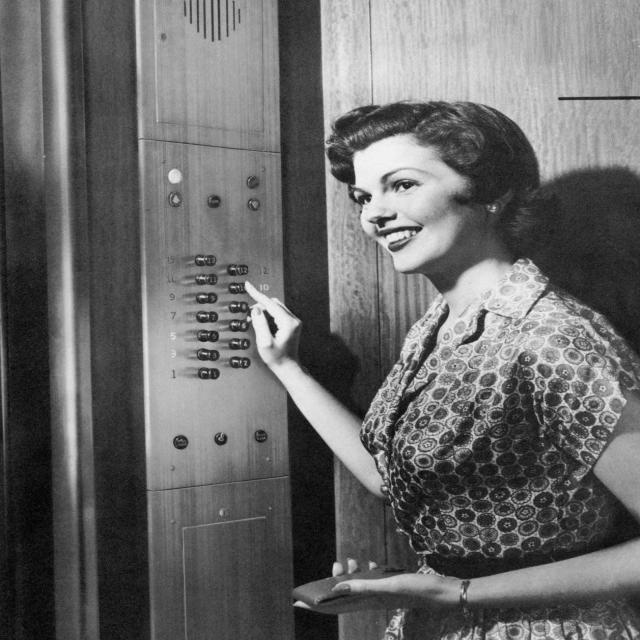1: (195, 365, 219, 381), (226, 280, 250, 296)
11: (194, 270, 218, 286)
12: (225, 262, 249, 278)
13: (193, 252, 217, 268)
2: (226, 354, 251, 370)
3: (194, 347, 219, 362)
4: (226, 336, 250, 352)
5: (194, 327, 219, 343)
6: (227, 317, 251, 333)
7: (194, 308, 218, 324)
8: (226, 298, 250, 314)
9: (193, 289, 218, 305)
bt_switch: (210, 430, 229, 446)
down: (244, 196, 264, 212)
empty: (243, 172, 262, 192), (164, 167, 183, 186)
text_blur: (171, 433, 189, 450), (251, 428, 269, 444)
unknown: (204, 192, 223, 212)
up: (166, 189, 184, 208)
